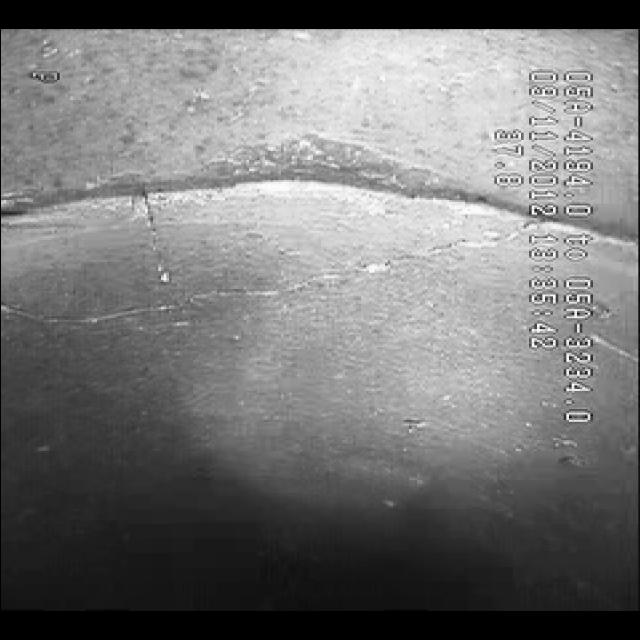Crack: (88, 228, 475, 327)
